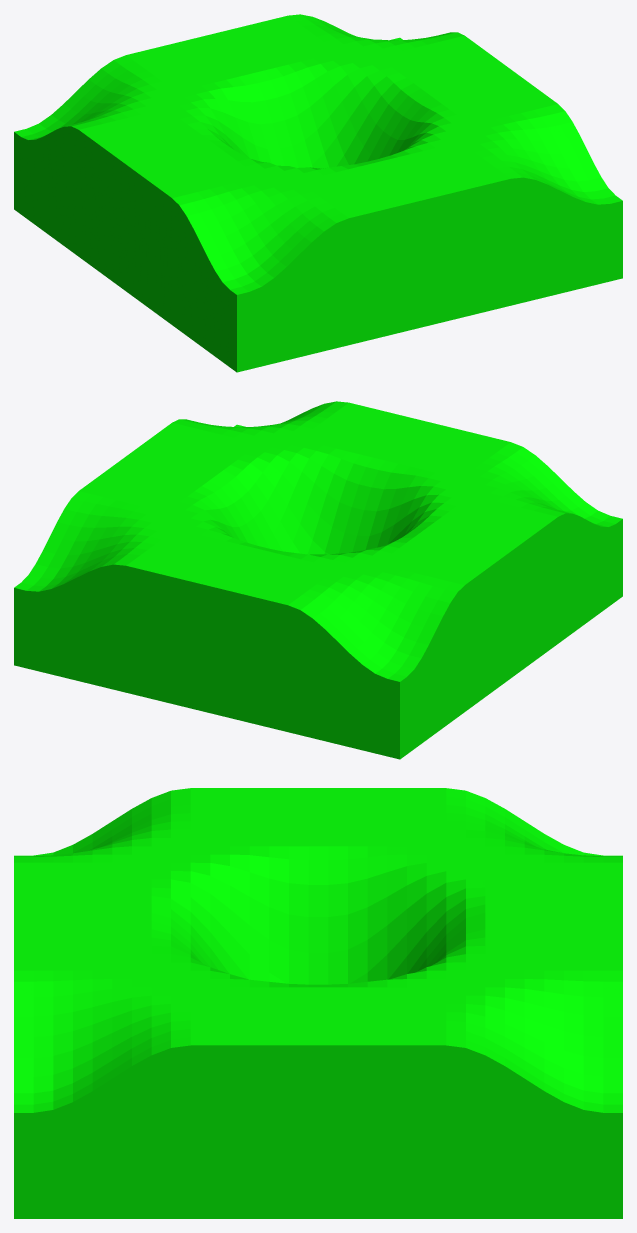
The model's file is Track1.fbx.
3 views of the same model, one above another, from view 1: azimuth 30°, elevation 25°; view 2: azimuth 150°, elevation 25°; view 3: azimuth 270°, elevation 25° (orthographic). The views are drawn at different scales.
Visible parts, largest first — view 1: Track1; view 2: Track1; view 3: Track1.
Part boxes in pixels (<box>): Track1: <box>14,14,622,372</box>; Track1: <box>14,401,622,759</box>; Track1: <box>14,788,622,1218</box>.
Bounding box in the file's own units: 10000 × 3142 × 10000.
